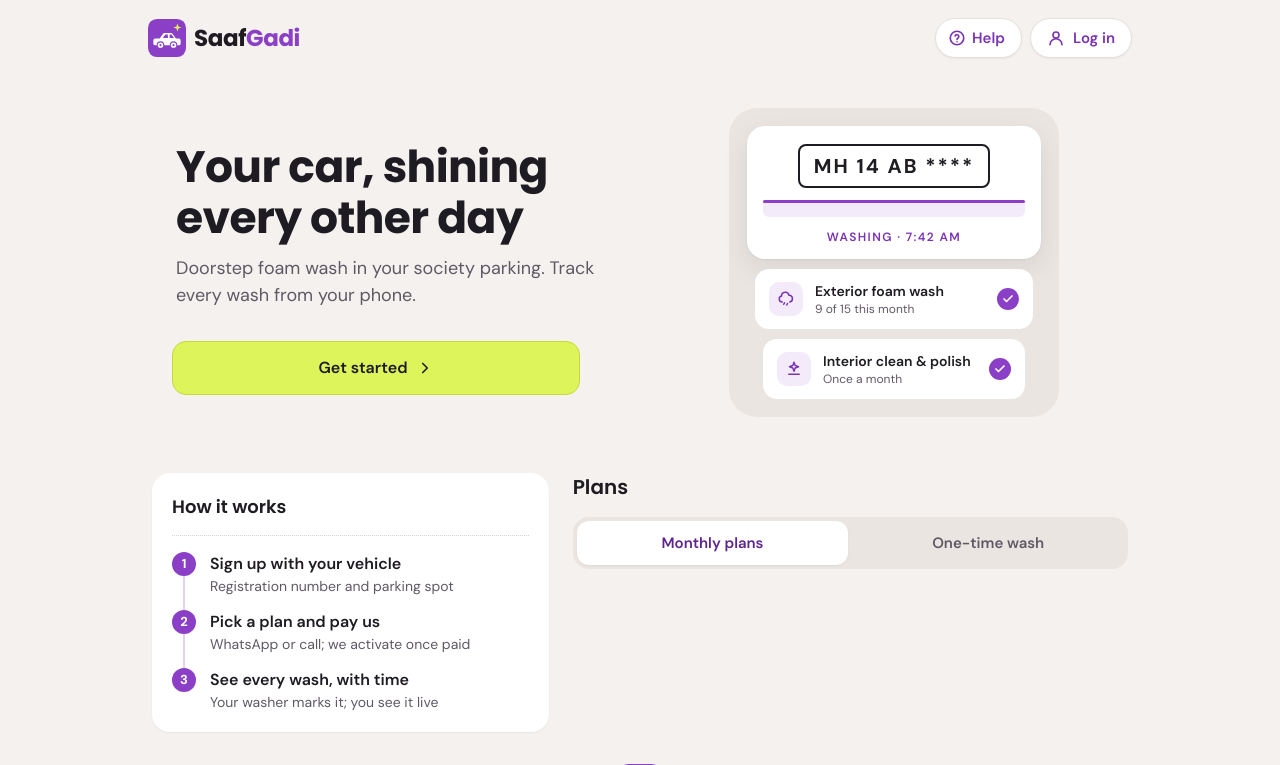
Test: one-time wash screens › welcome page toggles between monthly plans and one-time washes
This screenshot has width=1280, height=765.
Click the button "One-time wash" at [988, 543], box [852,521,1124,565]
(page scrolled)
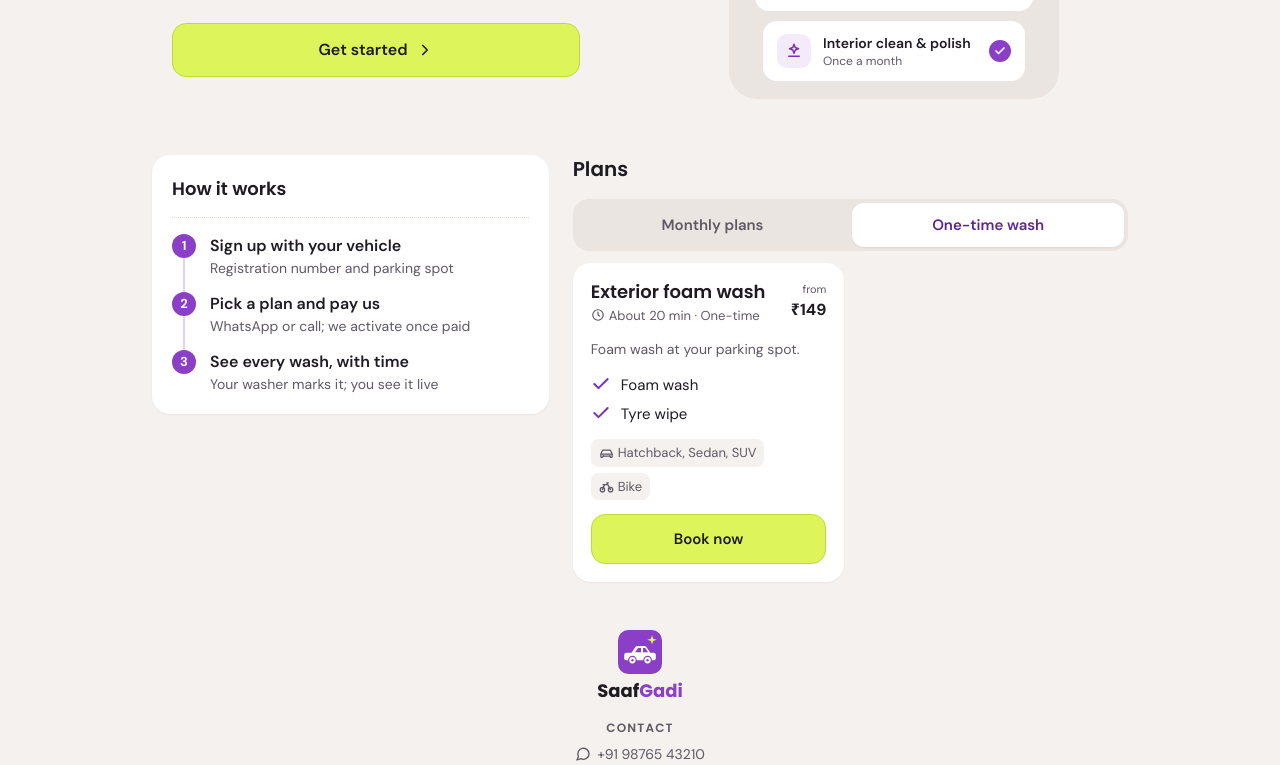
Result: the text "₹149" is shown at [791,298,826,322]
